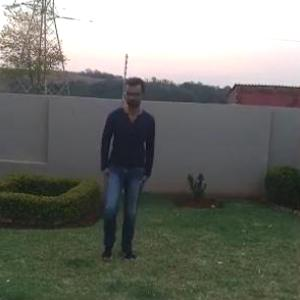follow: (91, 65, 151, 281)
